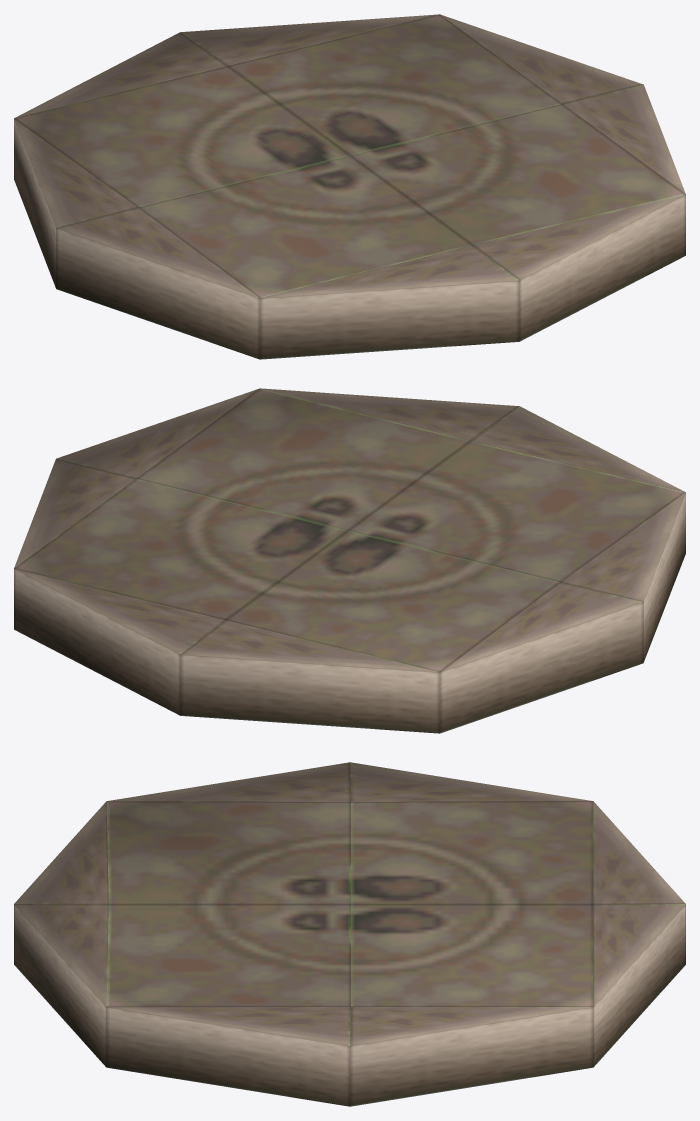
The picture shows the model from 3 angles, top to bottom: view 1: azimuth 30°, elevation 25°; view 2: azimuth 150°, elevation 25°; view 3: azimuth 270°, elevation 25°; orthographic projection.
Visible parts, largest first — view 1: T1L2M008_2; view 2: T1L2M008_2; view 3: T1L2M008_2.
Part boxes in pixels (bbox=[...]): T1L2M008_2: bbox=[14, 14, 685, 359]; T1L2M008_2: bbox=[14, 388, 685, 733]; T1L2M008_2: bbox=[14, 762, 685, 1106].
Size of the model in its own units: 2 by 0.1992 by 2.
1 material, 1 textured.
